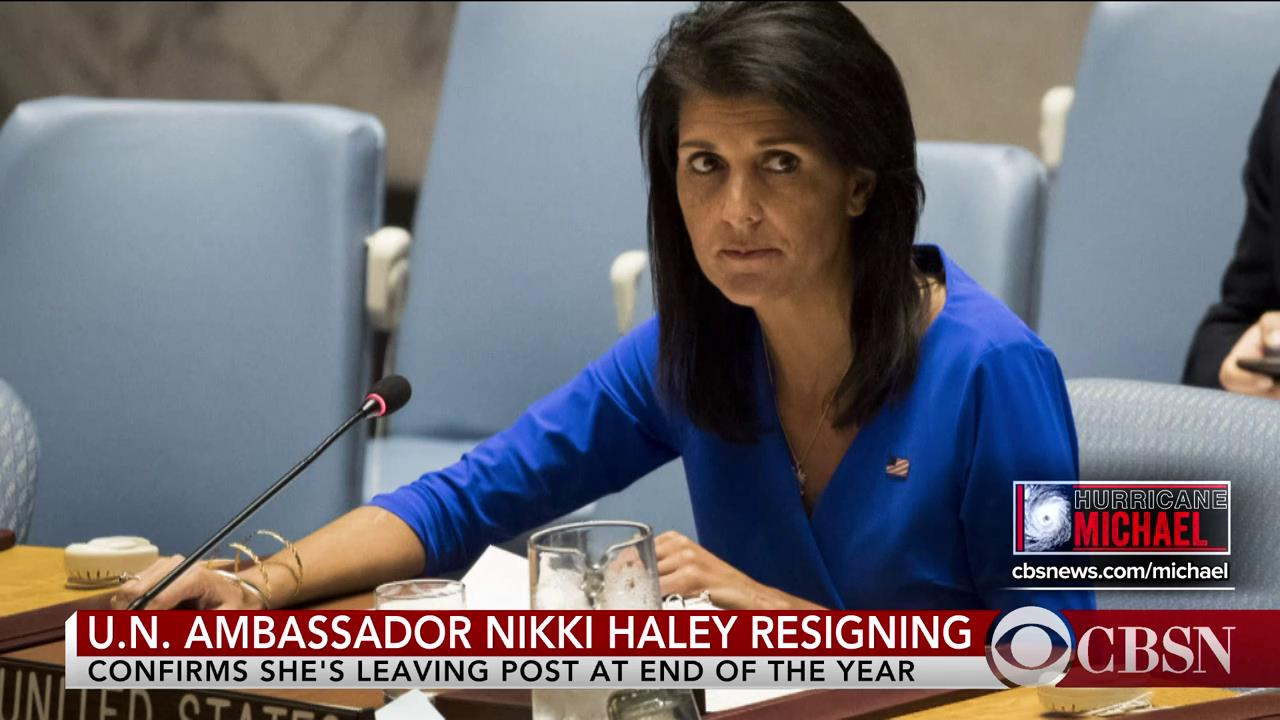CBSN: (1076, 622, 1238, 678)
CONFIRMS SHE'S LEAVING POST AT END OF THE YEAR: (85, 655, 919, 683)
HURRICANE: (1072, 486, 1229, 510)
MICHAEL: (1070, 510, 1209, 547)
U.N. AMBASSADOR NIKKI HALEY RESIGNING: (85, 612, 972, 653)
cbsnews.com/michael: (1011, 561, 1229, 582)
